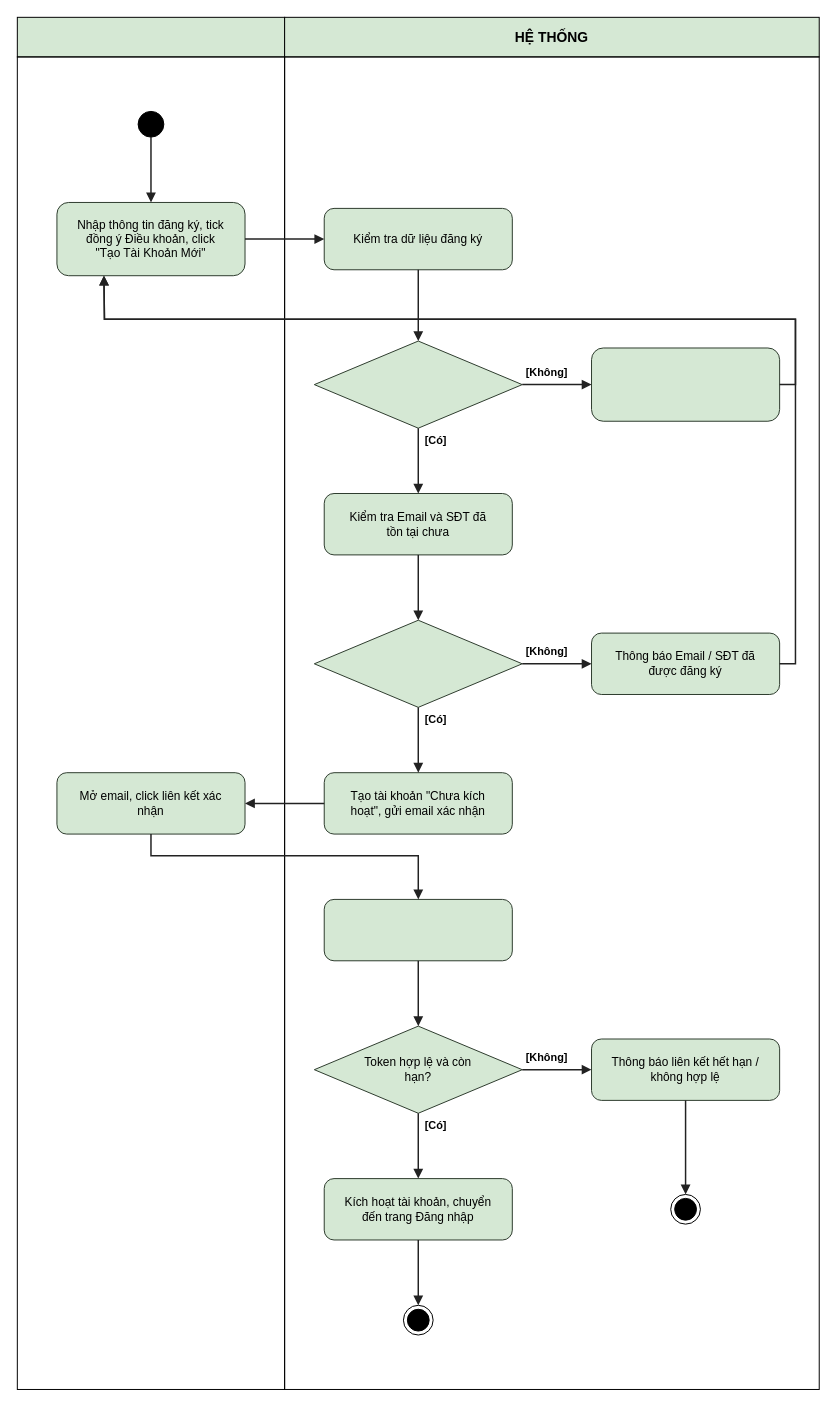
Image size: 837x1407. Some labels were removed from this diagram. Each missing label, with the centre of its shape:
Dữ liệu hợp lệ?: the point at 417,384
Email, SĐT chưa tồn tại?: the point at 417,663
Kiểm tra token: the point at 417,929
NGƯỜI DÙNG: the point at 150,36
Thông báo lỗi nhập liệu (Email, mật khẩu, SĐT, chưa đồng ý Điều khoản): the point at 685,384
